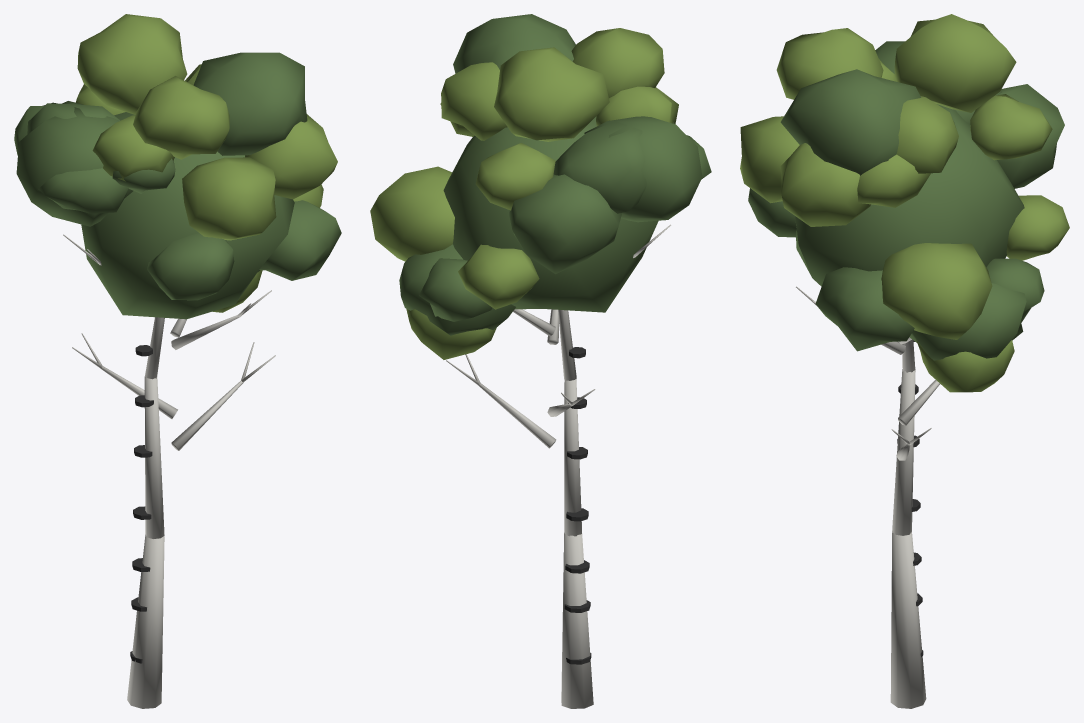
Rendered from node_tree_birch_1.glb.
3 renders of one model, left to right at view 1: azimuth 30°, elevation 25°; view 2: azimuth 150°, elevation 25°; view 3: azimuth 270°, elevation 25°, orthographic. The views are drawn at different scales.
Visible parts, largest first — view 1: blob.021, blob.013, blob.006, blob.018, blob.017, blob.008, cyl, blob.011, blob.010, blob.019, blob.009, blob.014 (+7 smaller); view 2: blob.021, blob.006, blob.005, blob.020, blob.017, blob.003, blob.008, blob.013, cyl, blob.016, blob, blob.002 (+7 smaller); view 3: blob.021, blob.013, blob.020, blob.006, blob.019, blob.010, cyl, blob.008, blob.002, blob.007, blob.016, blob.018 (+8 smaller).
Boxes of the visible parts, x1,y1,x2,y2 form: blob.021: (81,112,294,319); blob.013: (193,52,307,155); blob.006: (77,14,187,114); blob.018: (182,157,276,240); blob.017: (16,107,133,226); blob.008: (133,76,229,159); cyl: (127,534,164,708); blob.011: (147,233,234,300); blob.010: (245,114,337,199); blob.019: (259,200,341,280); blob.009: (38,168,128,213); blob.014: (92,115,174,181); blob.021: (443,116,658,312); blob.006: (494,47,609,141); blob.005: (509,174,621,274); blob.020: (370,166,454,261); blob.017: (584,116,702,222); blob.003: (553,121,646,213); blob.008: (571,28,664,97); blob.013: (453,14,575,73); cyl: (561,533,593,708); blob.016: (441,62,507,140); blob: (458,244,539,309); blob.002: (475,143,555,210); blob.021: (795,104,1024,286); blob.013: (780,69,920,175); blob.020: (881,243,992,339); blob.006: (894,14,1016,112); blob.019: (815,267,914,351); blob.010: (780,143,870,226); cyl: (890,532,926,708); blob.008: (776,28,883,99); blob.002: (970,94,1052,160); blob.007: (909,283,1026,360); blob.016: (896,96,958,173); blob.018: (740,116,799,203).
Bounding box in the file's own units: 4.6 × 9.73 × 4.2.
